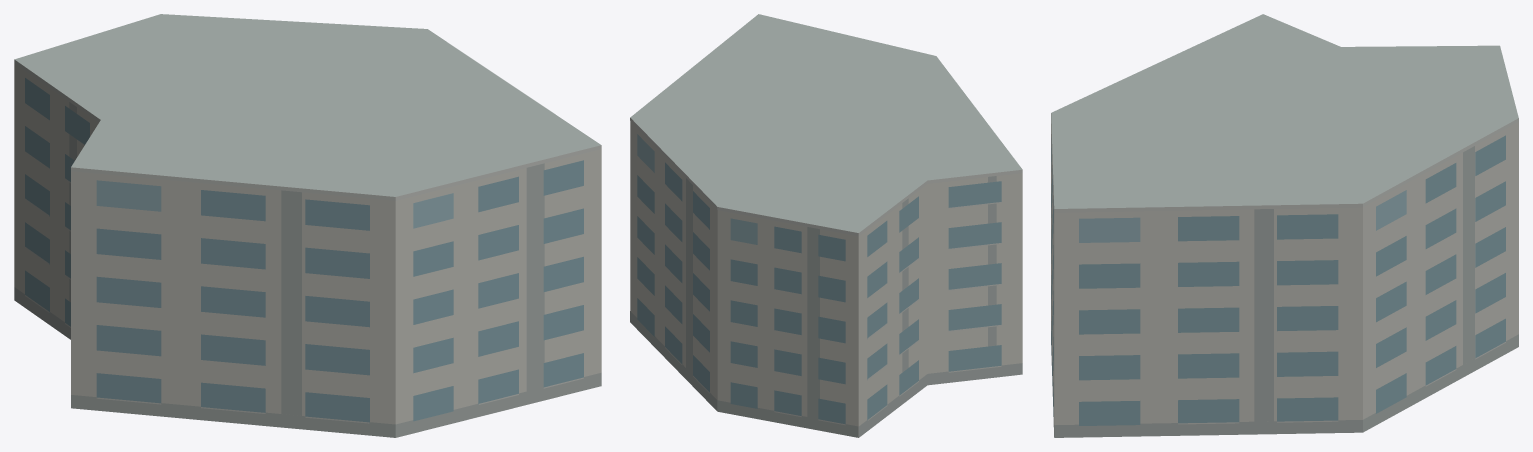
The model's file is residential-00b33dad-7071-4dad-907f-aa117c5b5369.glb.
3 renders of one model, left to right at view 1: azimuth 30°, elevation 25°; view 2: azimuth 150°, elevation 25°; view 3: azimuth 270°, elevation 25°, orthographic. The views are drawn at different scales.
Parts seen in each view (by area): view 1: residential-00b33dad-7071-4dad-907f-aa117c5b5369.tmp; view 2: residential-00b33dad-7071-4dad-907f-aa117c5b5369.tmp; view 3: residential-00b33dad-7071-4dad-907f-aa117c5b5369.tmp.
Boxes of the visible parts, <box> form: residential-00b33dad-7071-4dad-907f-aa117c5b5369.tmp: <box>14,14,601,437</box>; residential-00b33dad-7071-4dad-907f-aa117c5b5369.tmp: <box>630,14,1022,437</box>; residential-00b33dad-7071-4dad-907f-aa117c5b5369.tmp: <box>1051,14,1518,437</box>.
Bounding box in the file's own units: 27.88 × 15.25 × 28.25.
